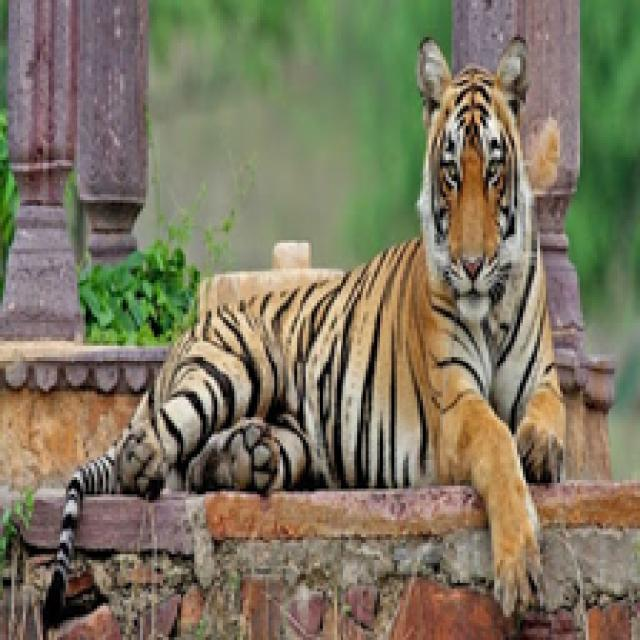tiger: (62, 41, 582, 607)
